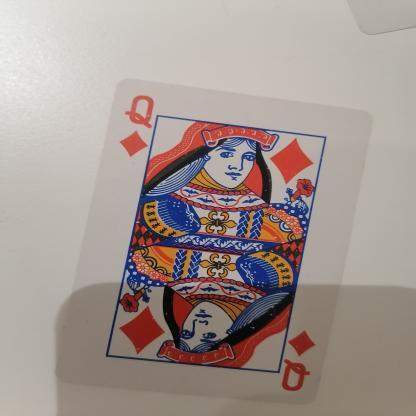QD: (274, 315, 329, 397), (117, 90, 164, 168)
